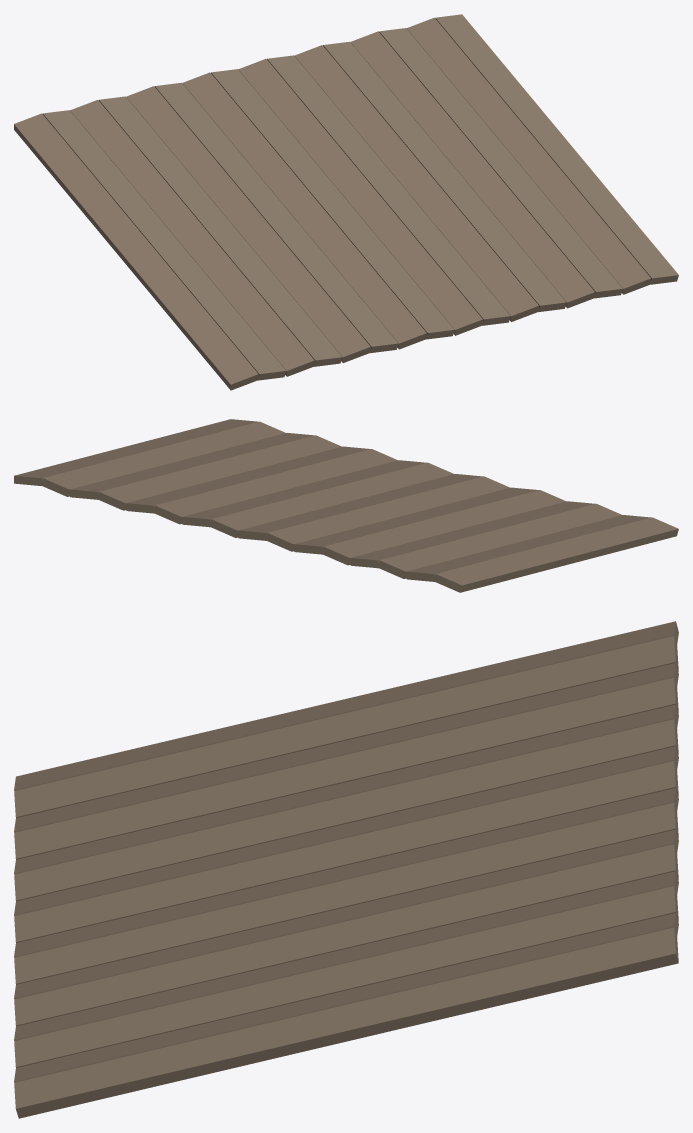
Rendered from taule.fbx.
The picture shows the model from 3 angles, top to bottom: view 1: azimuth 30°, elevation 25°; view 2: azimuth 150°, elevation 25°; view 3: azimuth 270°, elevation 25°; orthographic projection. The views are drawn at different scales.
Visible parts, largest first — view 1: taule; view 2: taule; view 3: taule.
Part boxes in pixels (x1,y1,x2,y2): taule: (14,14,678,390); taule: (14,419,678,592); taule: (14,621,678,1118).
Bounding box in the file's own units: 4.44 × 1.07 × 3.75.
